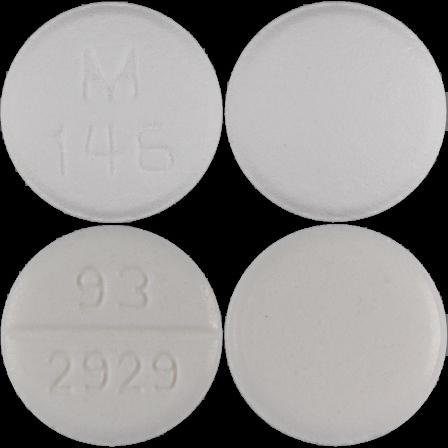0615-1535: (0, 0, 224, 224)
